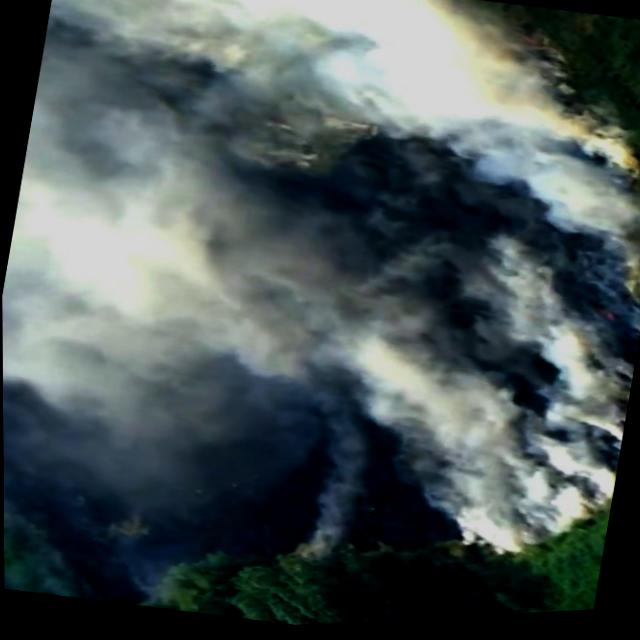smoke: (0, 50, 282, 430), (34, 0, 295, 140)
